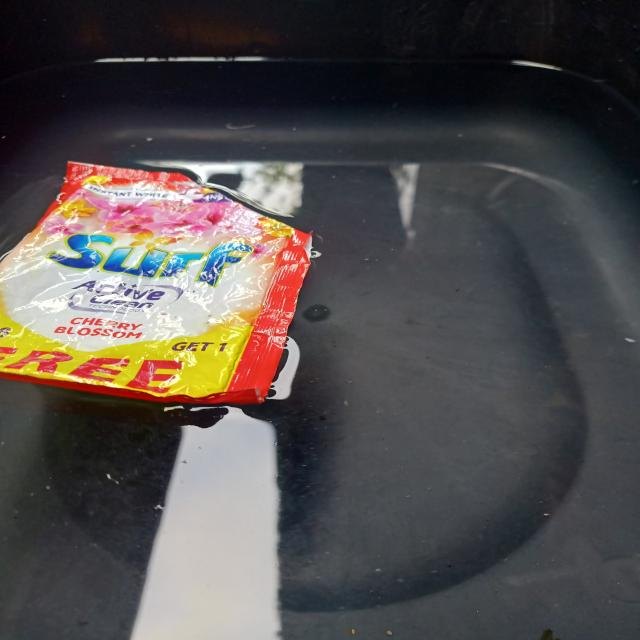Plastic Wrapper: (0, 162, 312, 402)
